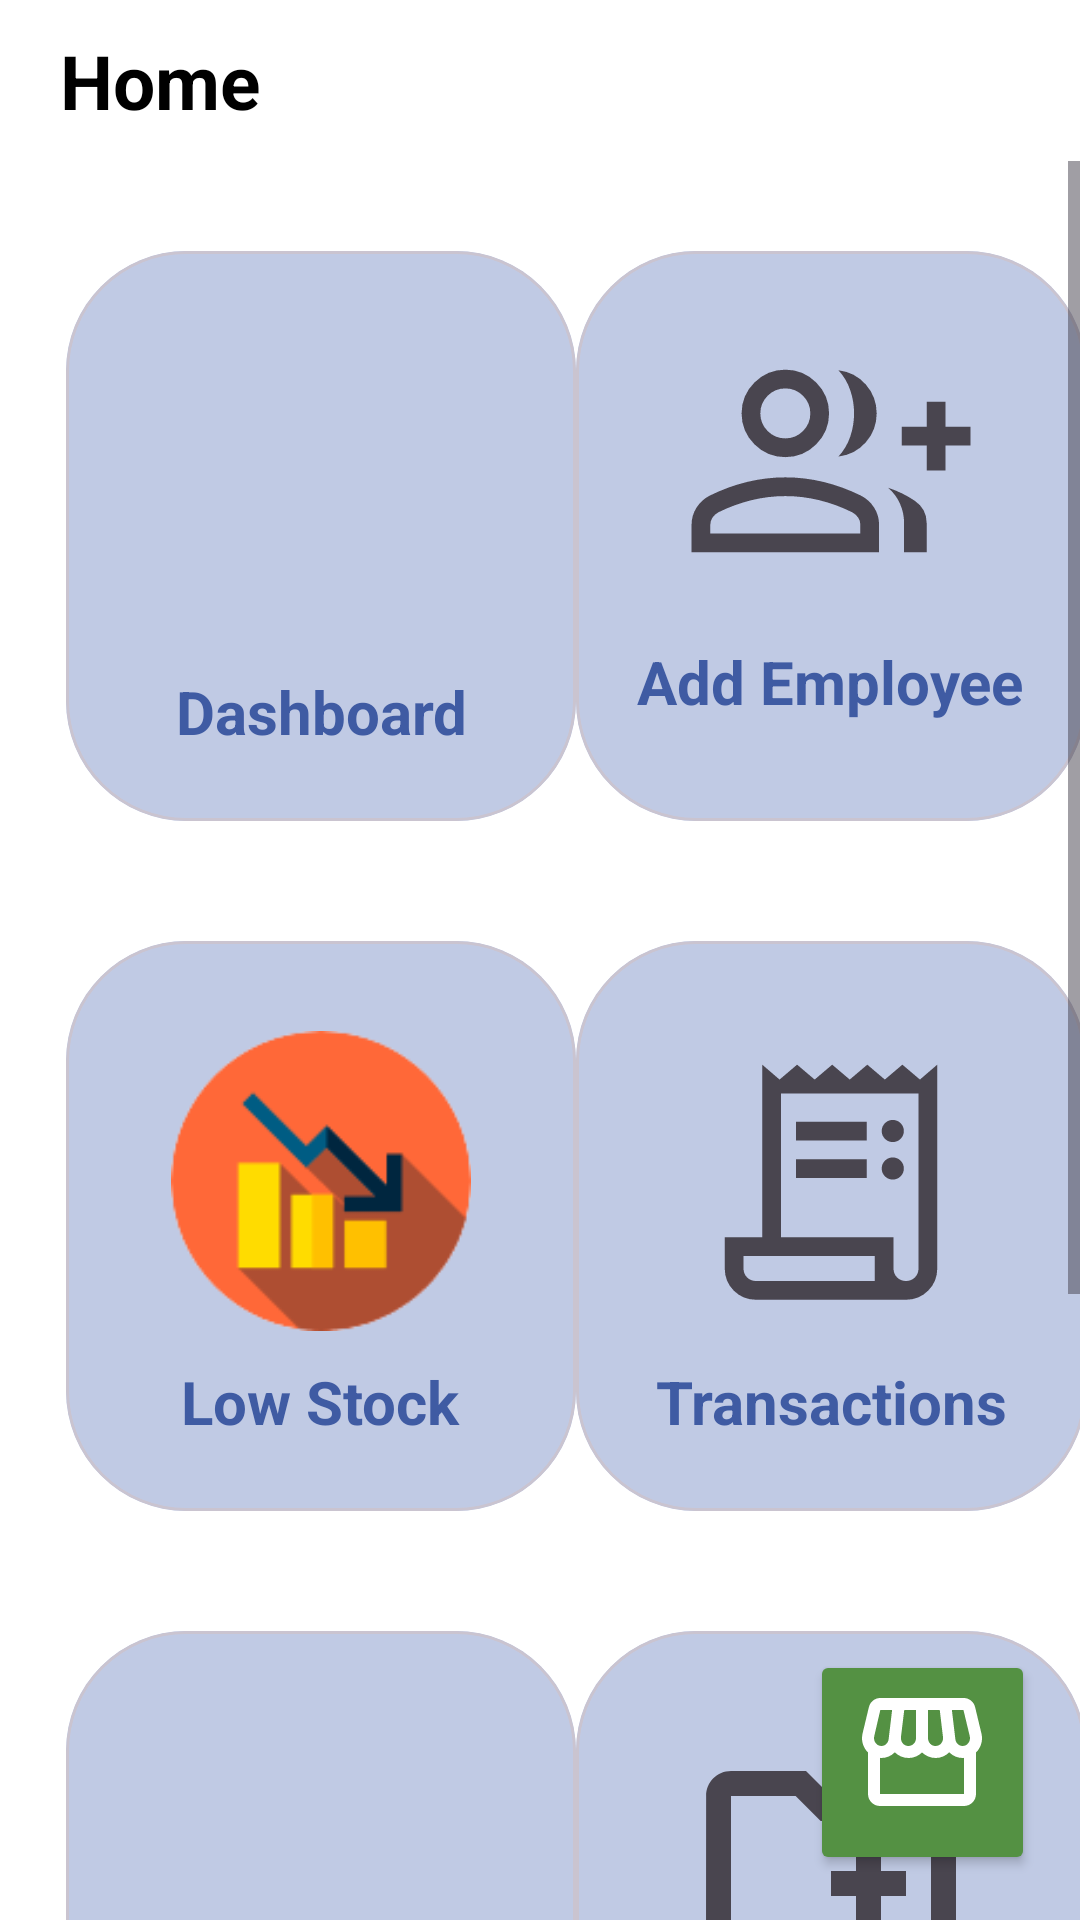

Icons on this 1080 × 1920 Android screen, each with its box as (x1, y1, x2, y2):
receipt long: (724, 1065, 938, 1300)
